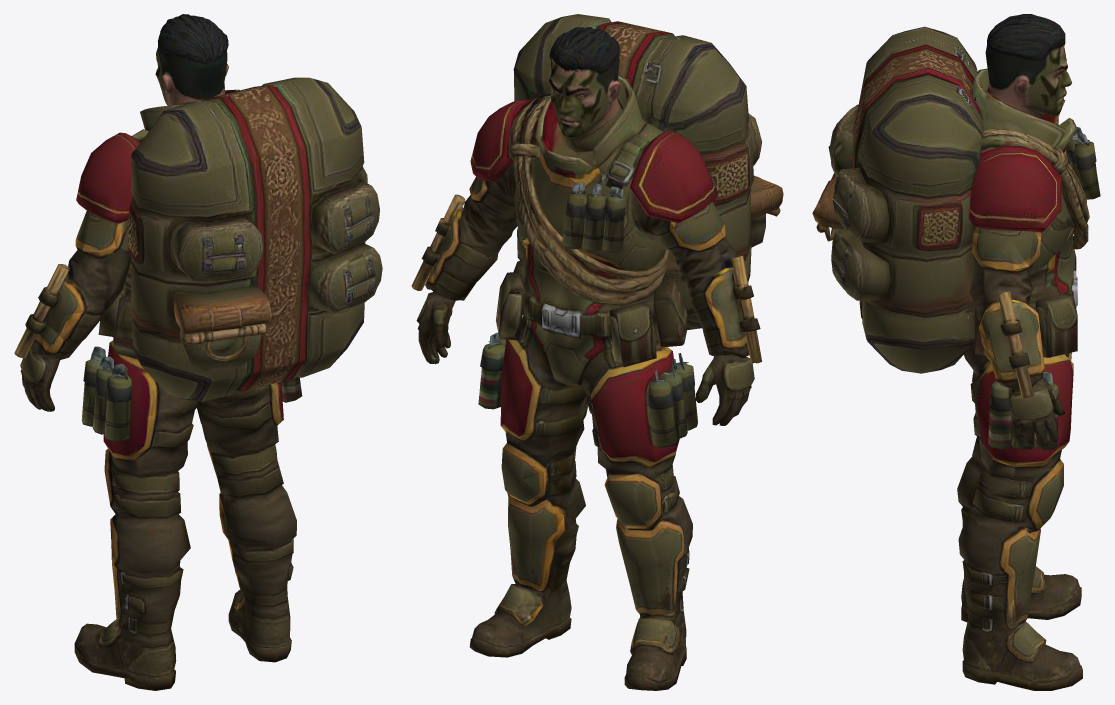
The model's file is crimson_sapper.glb.
The picture shows the model from 3 angles, left to right: view 1: azimuth 30°, elevation 25°; view 2: azimuth 150°, elevation 25°; view 3: azimuth 270°, elevation 25°; orthographic projection.
Parts seen in each view (by area): view 1: Body, Trim; view 2: Body, Trim; view 3: Body, Trim.
Boxes of the visible parts, left/top/right/bottom form: Body: left=14, top=14, right=382, bottom=690; Trim: left=44, top=219, right=283, bottom=617; Body: left=411, top=14, right=783, bottom=690; Trim: left=433, top=148, right=733, bottom=620; Body: left=812, top=14, right=1100, bottom=690; Trim: left=821, top=148, right=1072, bottom=609.
Size of the model in its own units: 1.05 by 1.8 by 0.7503.
2 materials, 2 textured.
